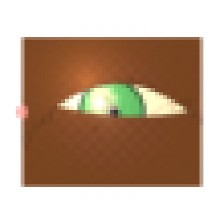corneal_ulcer: (78, 84, 125, 122)
